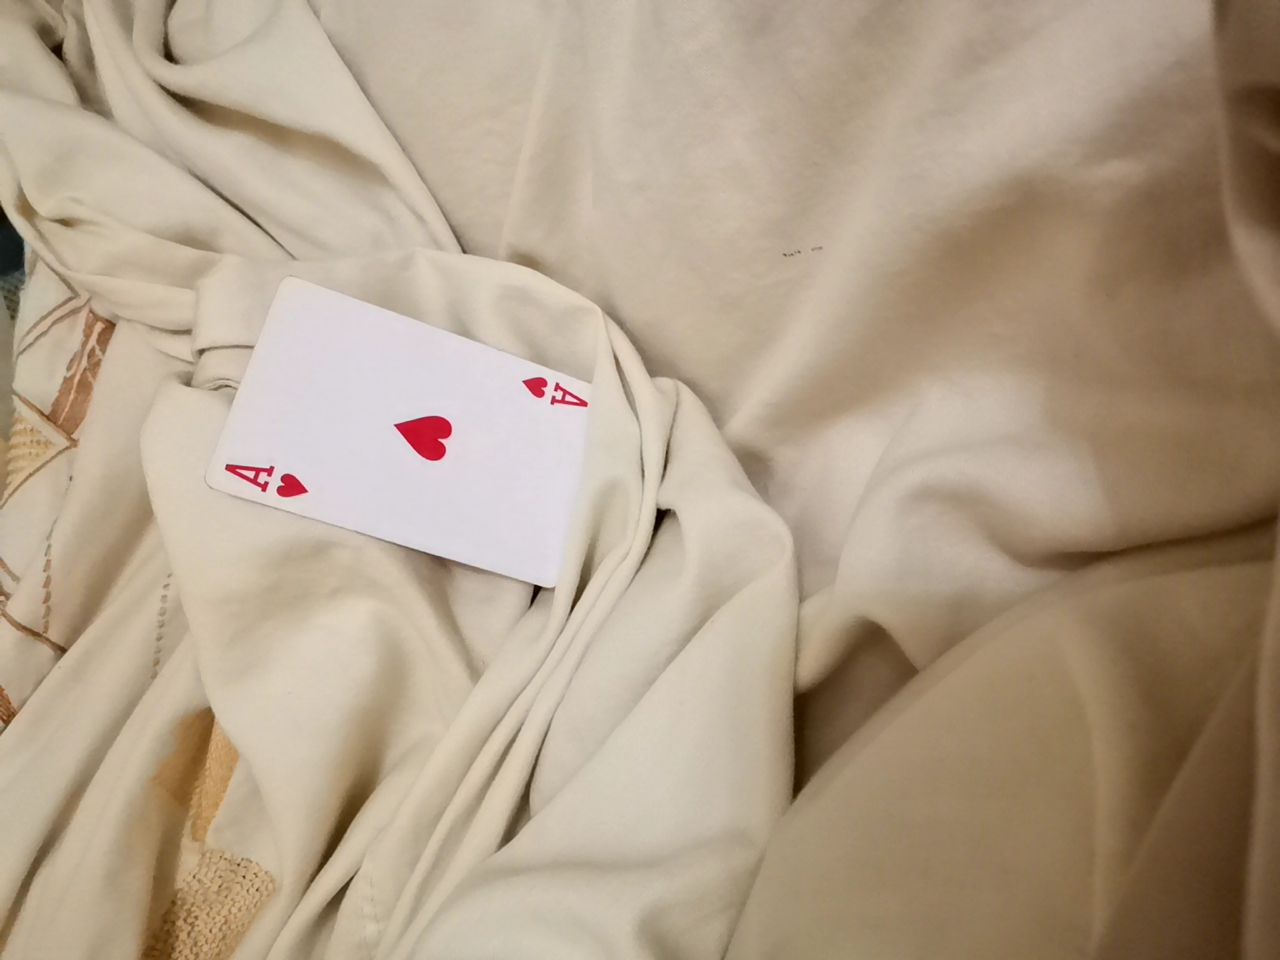hx a: (219, 295, 605, 584)
